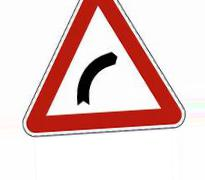right: (22, 1, 186, 136)
